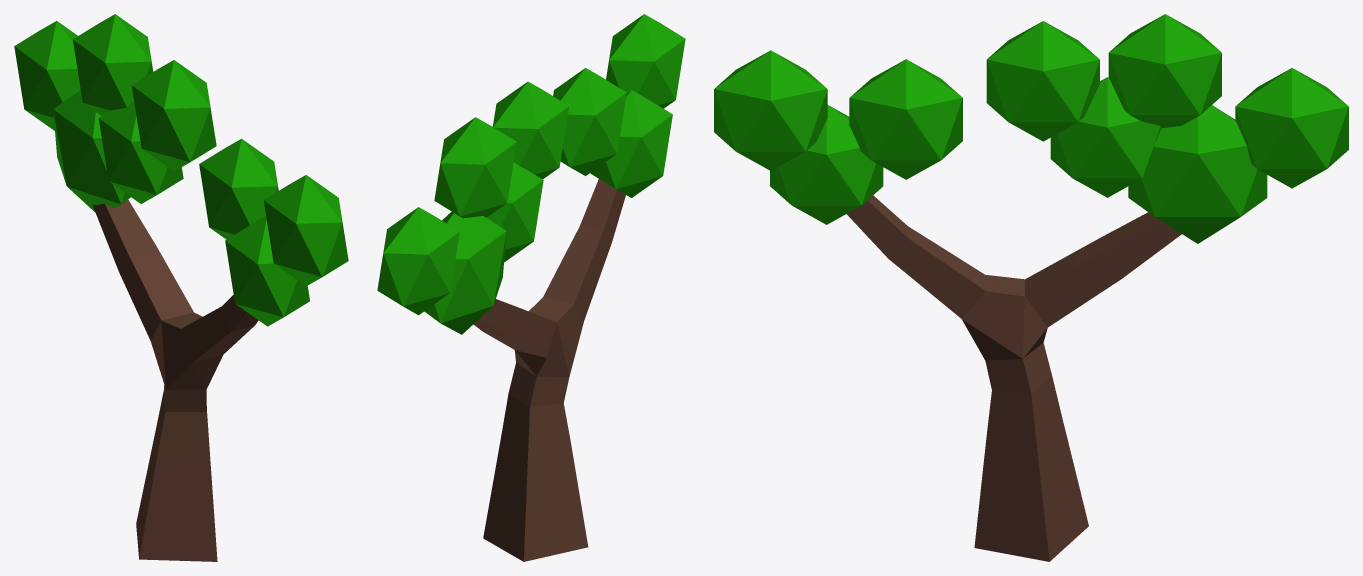
File: Tree1.fbx
The picture shows the model from 3 angles, left to right: view 1: azimuth 30°, elevation 25°; view 2: azimuth 150°, elevation 25°; view 3: azimuth 270°, elevation 25°; orthographic projection. The views are drawn at different scales.
Visible parts, largest first — view 1: Cube, Icosphere.002, Icosphere.004, Icosphere.001, Icosphere.003, Icosphere.006, Icosphere.005, Icosphere, Icosphere.007; view 2: Cube, Icosphere, Icosphere.001, Icosphere.005, Icosphere.003, Icosphere.004, Icosphere.006, Icosphere.002, Icosphere.007; view 3: Cube, Icosphere.005, Icosphere.004, Icosphere.003, Icosphere.002, Icosphere, Icosphere.001, Icosphere.007, Icosphere.006.
Part boxes in pixels (box(x1,y1,x2,y2)): Cube: box(93, 199, 258, 561); Icosphere.002: box(131, 60, 216, 171); Icosphere.004: box(263, 175, 348, 286); Icosphere.001: box(73, 14, 153, 115); Icosphere.003: box(199, 138, 278, 239); Icosphere.006: box(225, 216, 309, 326); Icosphere.005: box(53, 90, 130, 212); Icosphere: box(14, 21, 80, 130); Icosphere.007: box(98, 100, 183, 203); Cube: box(473, 179, 626, 561); Icosphere: box(377, 207, 459, 315); Icosphere.001: box(434, 117, 516, 218); Icosphere.005: box(424, 211, 506, 334); Icosphere.003: box(553, 68, 626, 175); Icosphere.004: box(606, 14, 685, 108); Icosphere.006: box(590, 90, 672, 197); Icosphere.002: box(492, 81, 569, 179); Icosphere.007: box(487, 162, 543, 262); Cube: box(846, 195, 1181, 561); Icosphere.005: box(1128, 105, 1267, 243); Icosphere.004: box(714, 50, 827, 170); Icosphere.003: box(849, 59, 962, 179); Icosphere.002: box(986, 21, 1099, 141); Icosphere: box(1235, 68, 1348, 188); Icosphere.001: box(1108, 14, 1221, 127); Icosphere.007: box(1050, 77, 1161, 197); Icosphere.006: box(770, 105, 883, 224).
Size of the model in its own units: 253 by 1279 by 1397.
